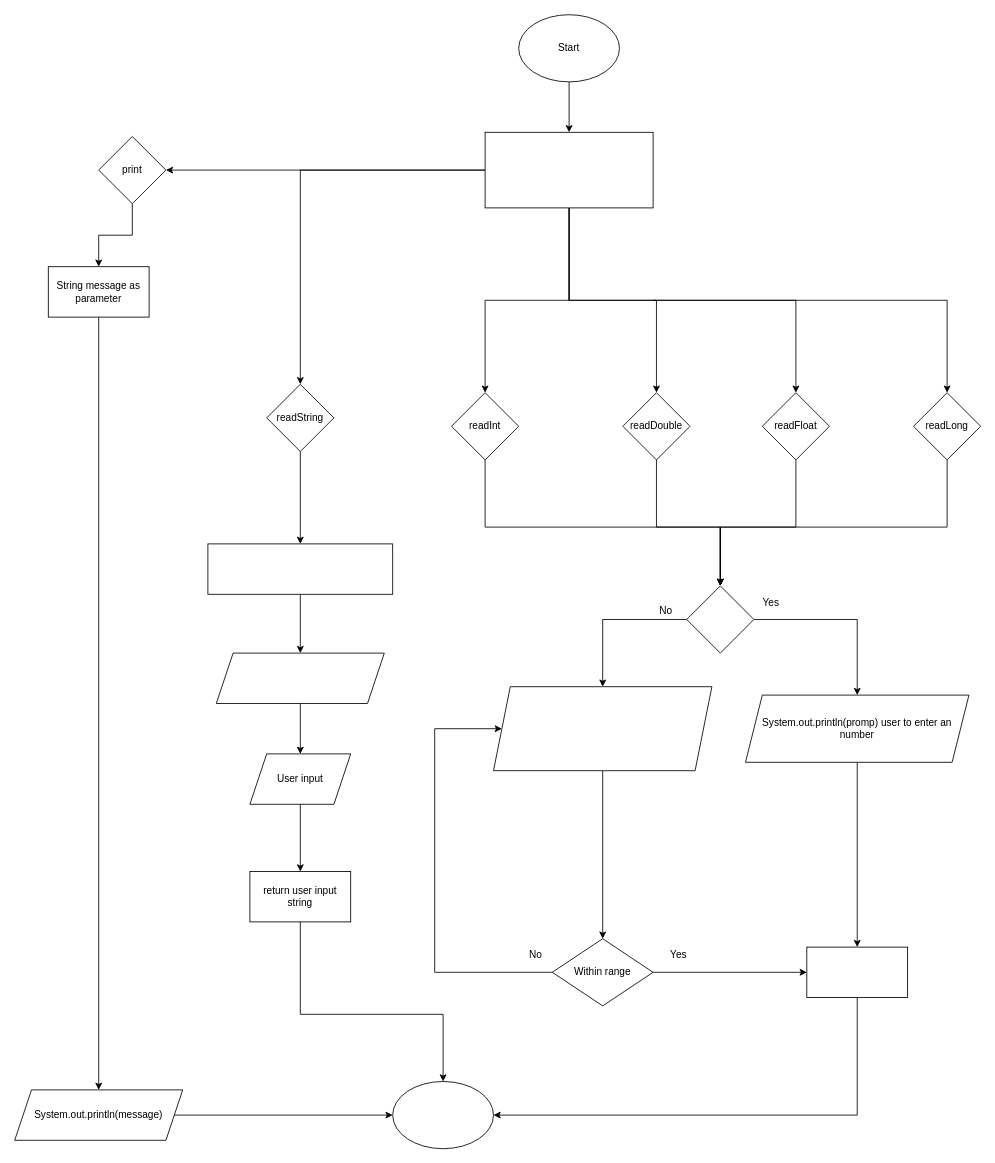
The diagram is 995 pixels wide and 1163 high, and some of its shapes have lost their labels. The shapes that lost their labels are listed below. From the top down, each one's centre as x and y in pixels, then its label:
the point at 568,169: Instantiate UserIOImpl object, private Scanner object
the point at 300,568: String prompt as parameter
the point at 720,619: min max provided
the point at 299,678: System.out.println(prompt)
the point at 602,728: System.out.println(prompt) user to enter an number within min max
the point at 857,972: return user input number
the point at 443,1115: End
